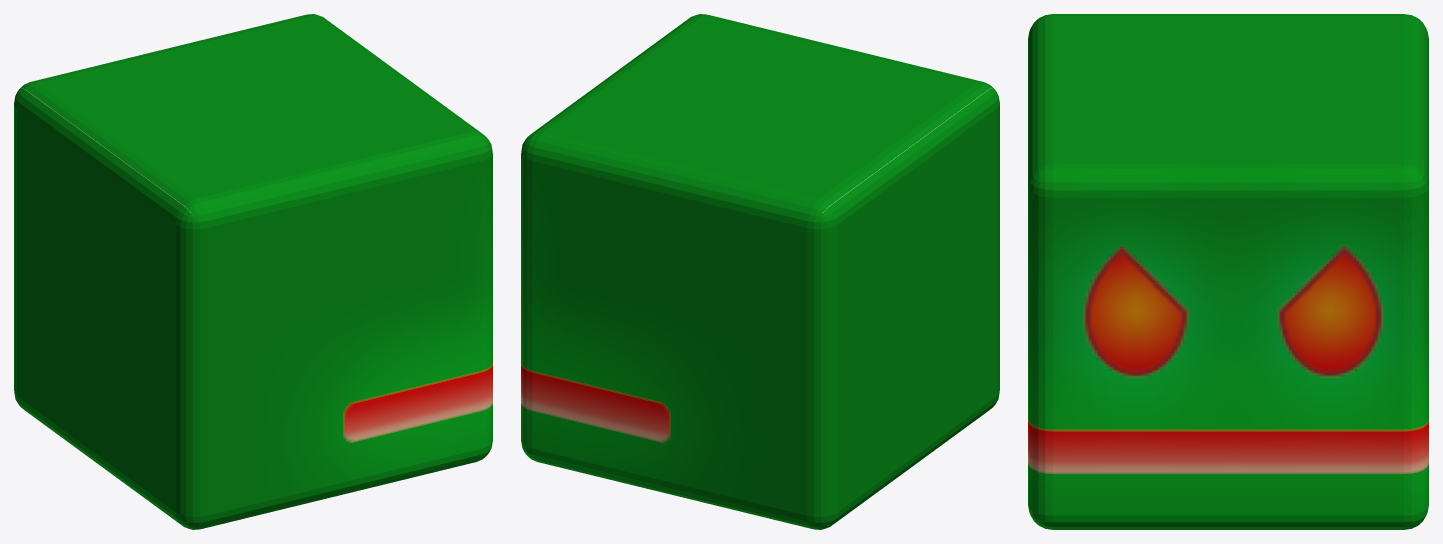
The model's file is Boss1.fbx.
3 views of the same model, side by side, from view 1: azimuth 30°, elevation 25°; view 2: azimuth 150°, elevation 25°; view 3: azimuth 270°, elevation 25° (orthographic). The views are drawn at different scales.
Visible parts, largest first — view 1: Cube; view 2: Cube; view 3: Cube.
Part boxes in pixels (<box>): Cube: <box>14,14,492,529</box>; Cube: <box>521,14,999,529</box>; Cube: <box>1028,14,1428,529</box>.
Bounding box in the file's own units: 400 × 400 × 400.
1 material, 1 textured.
